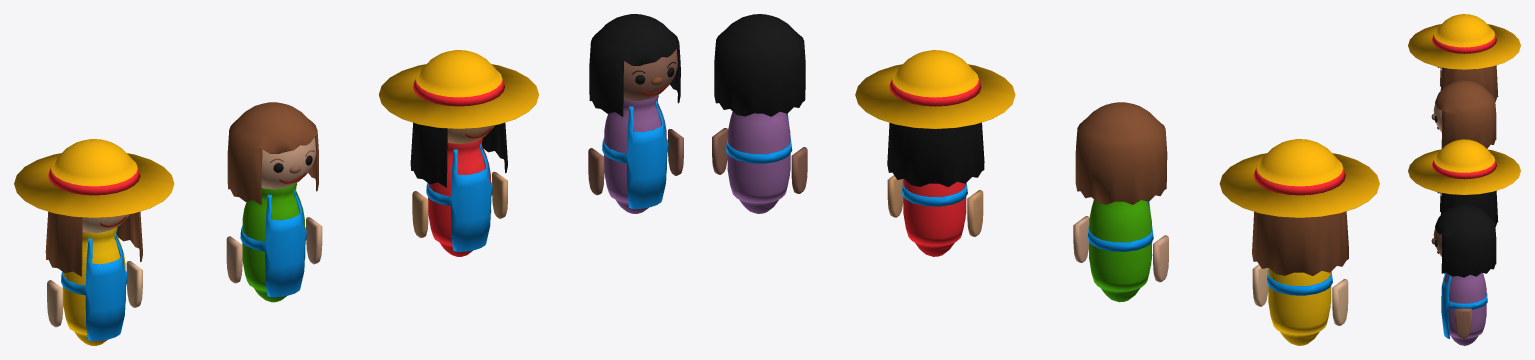
Rendered from Fazendeiras.fbx.
3 views of the same model, side by side, from view 1: azimuth 30°, elevation 25°; view 2: azimuth 150°, elevation 25°; view 3: azimuth 270°, elevation 25° (orthographic). The views are drawn at different scales.
Parts seen in each view (by area): view 1: Fazendeira 3, Fazendeira 1, Fazendeira 2, Fazendeira 4; view 2: Fazendeira 3, Fazendeira 1, Fazendeira 4, Fazendeira 2; view 3: Fazendeira 4, Fazendeira 1, Fazendeira 3, Fazendeira 2.
Part boxes in pixels (bbox=[...]): Fazendeira 3: bbox=[379, 50, 538, 256]; Fazendeira 1: bbox=[14, 139, 174, 345]; Fazendeira 2: bbox=[226, 102, 322, 302]; Fazendeira 4: bbox=[588, 14, 683, 213]; Fazendeira 3: bbox=[855, 50, 1015, 256]; Fazendeira 1: bbox=[1219, 139, 1379, 345]; Fazendeira 4: bbox=[712, 14, 807, 213]; Fazendeira 2: bbox=[1073, 102, 1168, 302]; Fazendeira 4: bbox=[1431, 204, 1496, 345]; Fazendeira 1: bbox=[1408, 14, 1520, 101]; Fazendeira 3: bbox=[1408, 139, 1520, 274]; Fazendeira 2: bbox=[1431, 80, 1496, 148].
Bounding box in the file's own units: 2100 × 619 × 446.
1 material, 1 textured.
